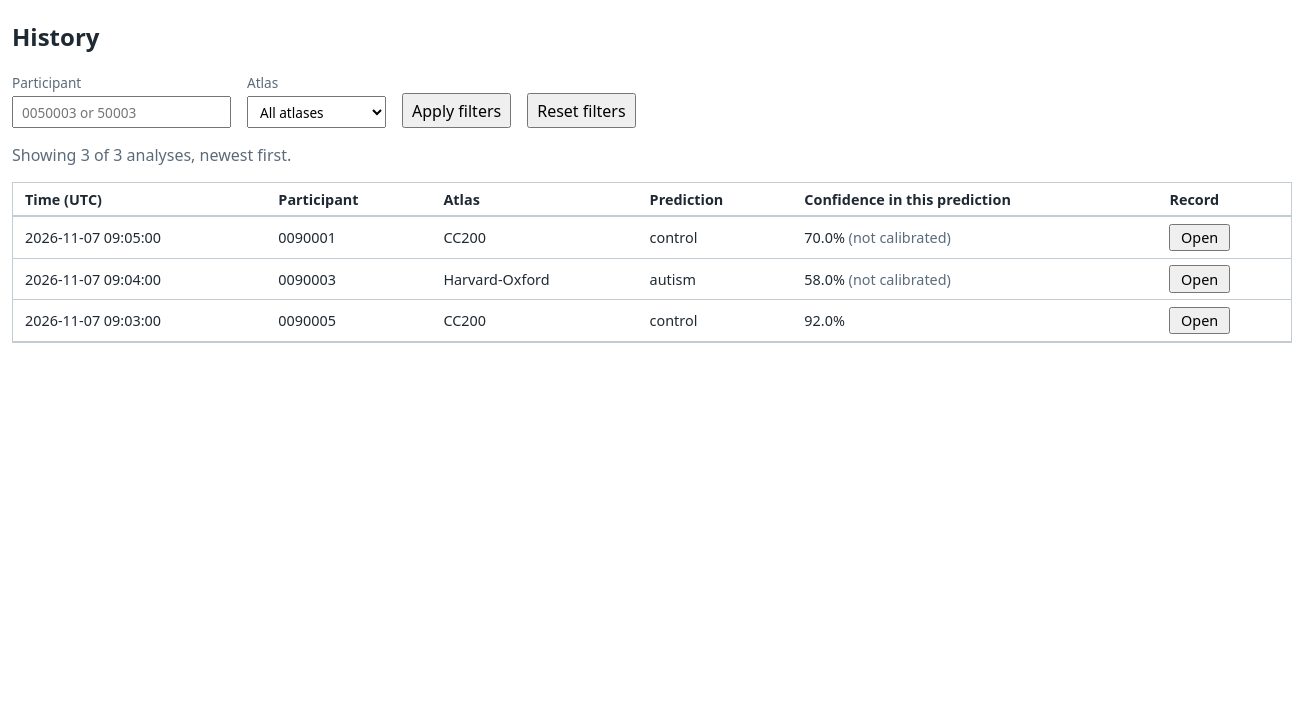
History page › opens one record with its ten fields and closes it again
Later steps or results of the test are not shown.
Click the button with aria-label "Open analysis a1b2c3d4e5f6" at point(1200, 238), box [1170,224,1230,251]
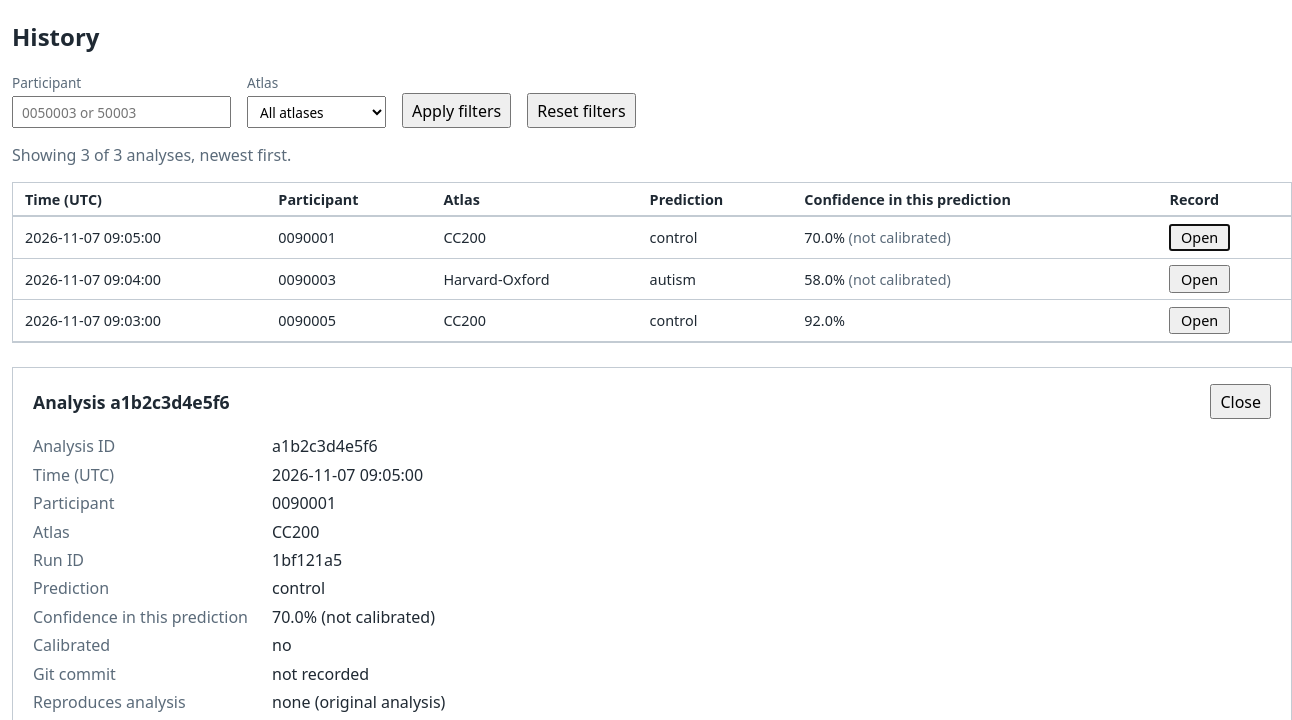
Result: the text "not recorded" is shown at [272,663,369,685]
Result: the text "Analysis ID" is shown at [33,436,115,458]
Result: the text "Time (UTC)" is shown at [33,464,114,486]
